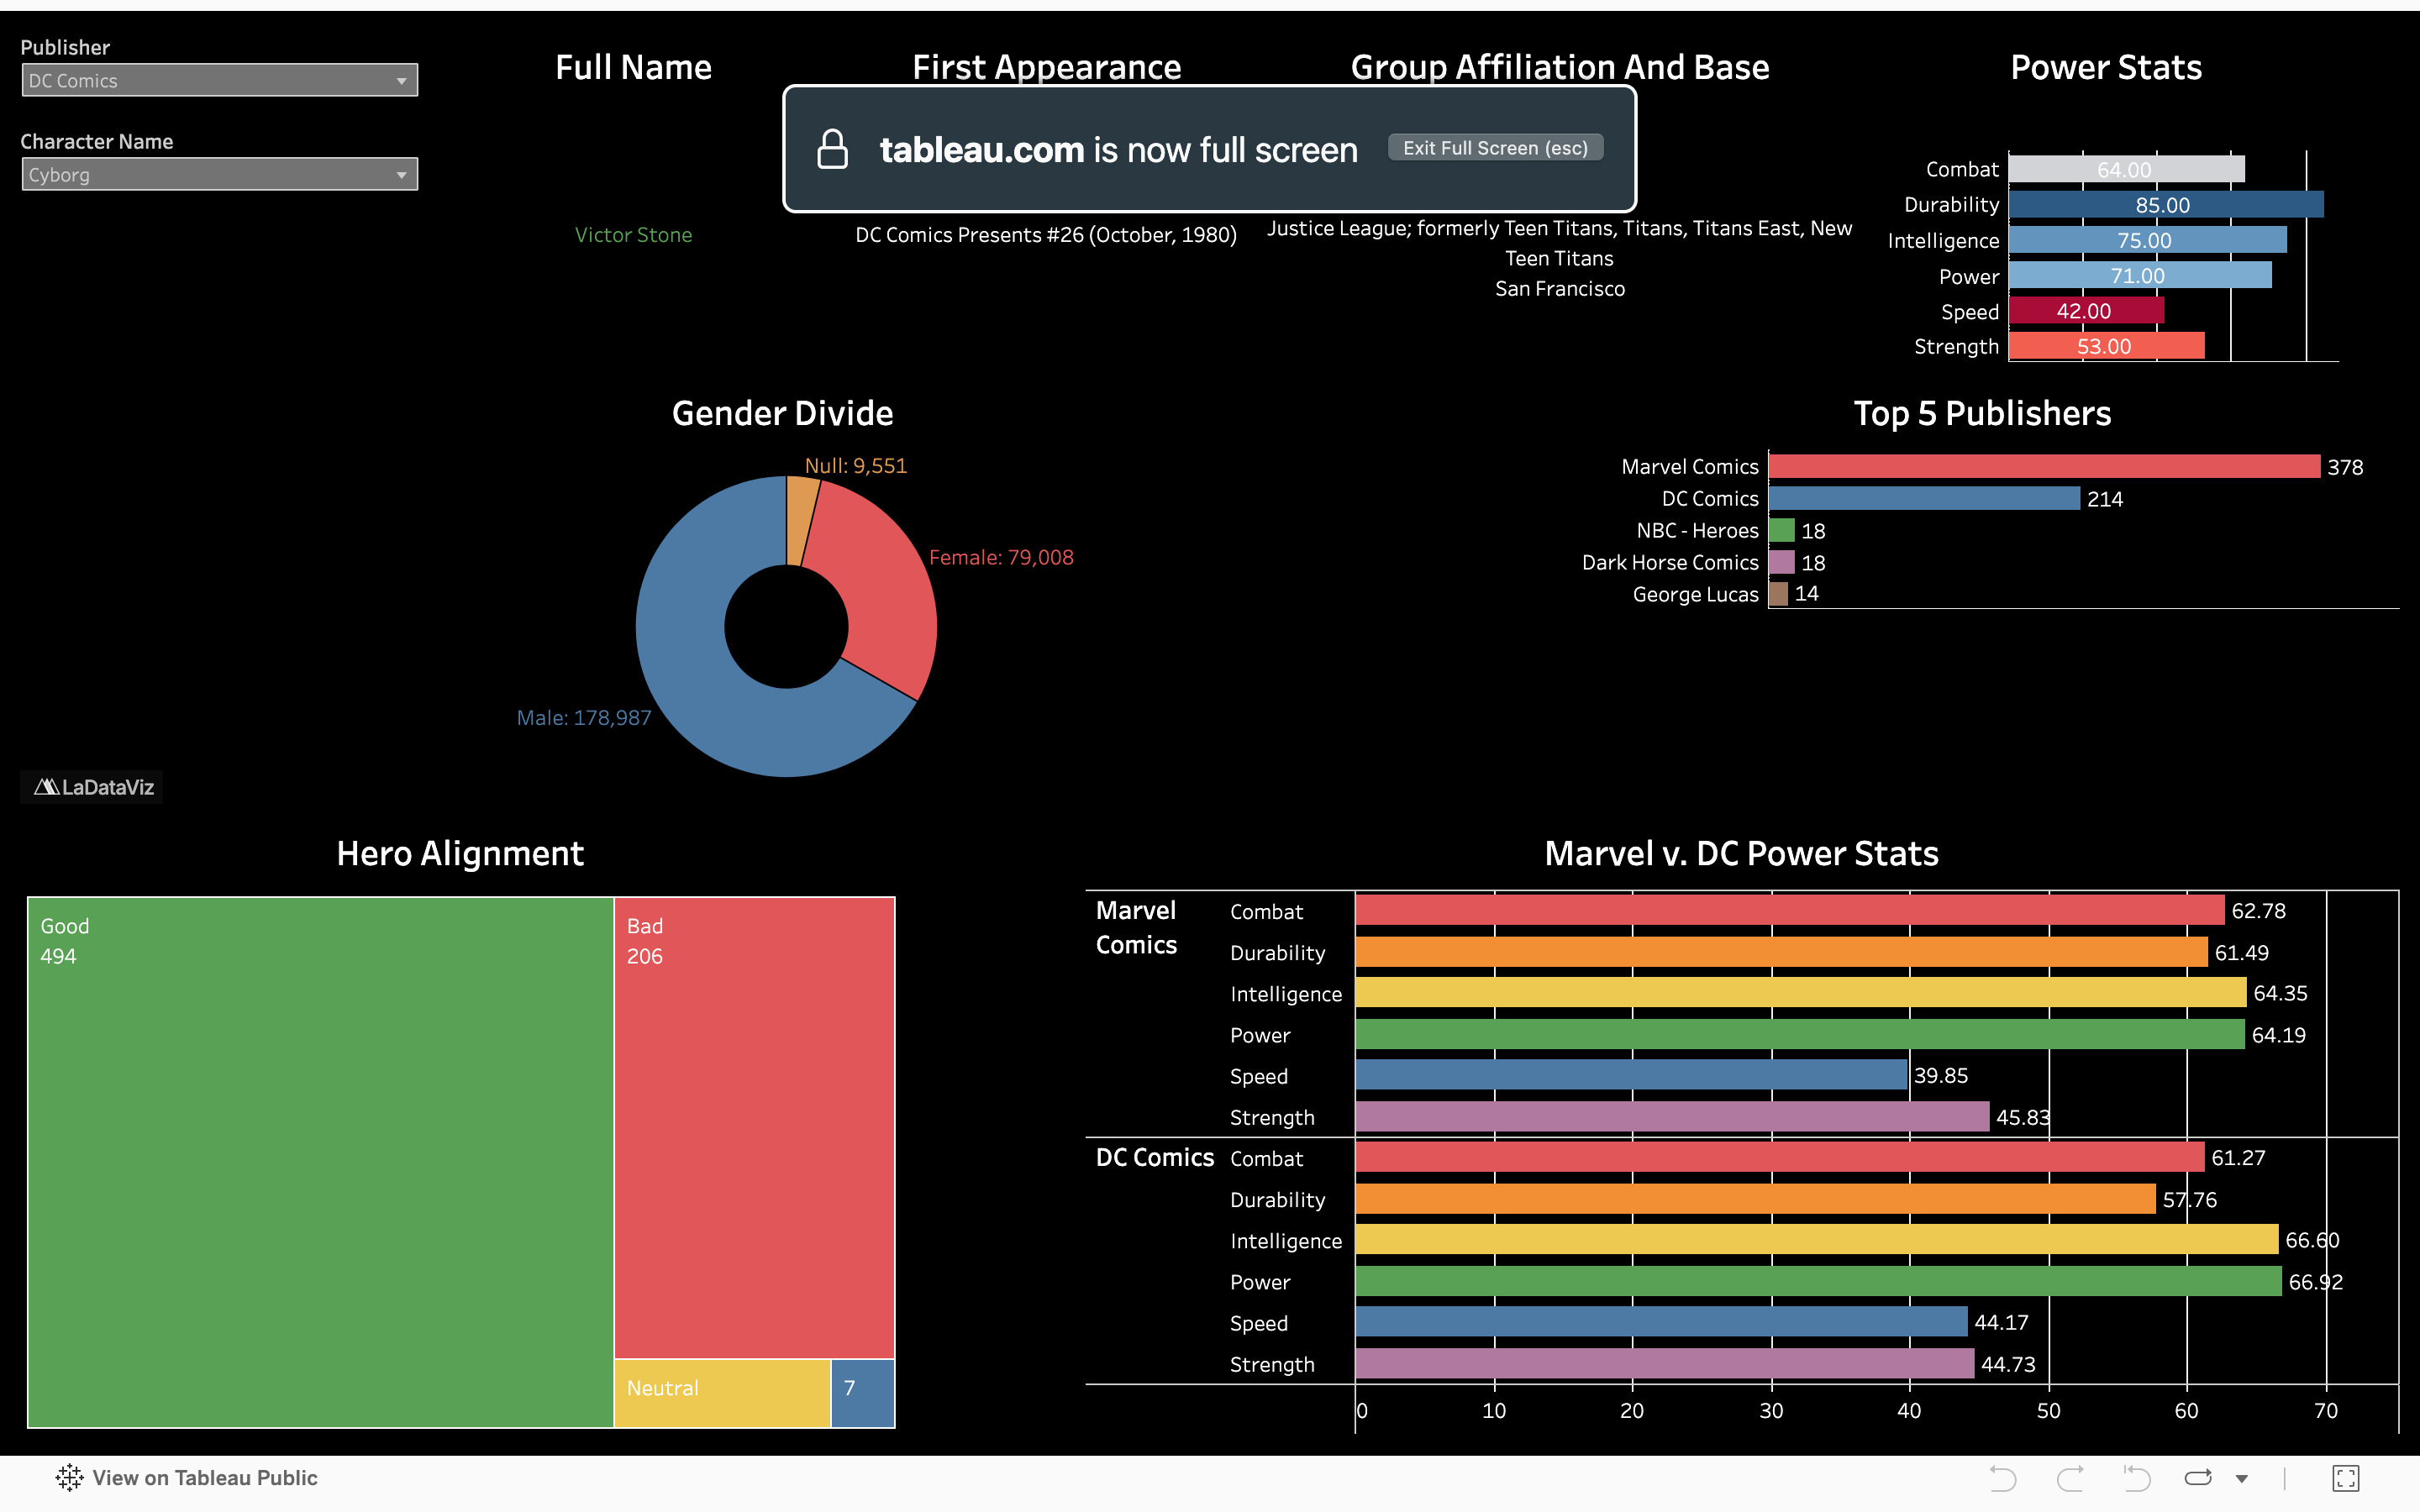

What the dashboard file says about the page in this screenshot:
{"tool":"tableau","page":{"name":"Dashboard 2","canvas":[1000,1000],"units":"permille","ordinal":0},"visuals":[{"type":"filter","title":"Char Power Stats","param":"[federated.1kn8je60tmyygf1c4n9020x3f44j].[none:Publisher:nk]","box":[6.2,10.6,170.7,65.1]},{"type":"worksheet","title":"Char's Full name","mark":"Automatic","box":[176.9,10.6,170.7,239.5]},{"type":"worksheet","title":"Char first Appearance","mark":"Automatic","box":[347.6,10.6,170.7,239.5]},{"type":"worksheet","title":"Char's Group Affiliation","mark":"Automatic","box":[518.3,10.6,253.2,239.5]},{"type":"worksheet","title":"Char Power Stats","mark":"Automatic","box":[771.5,10.6,197.7,239.5]},{"type":"blank","box":[969.2,10.6,24.6,239.5]},{"type":"filter","title":"Char Power Stats","param":"[federated.1kn8je60tmyygf1c4n9020x3f44j].[none:Name:nk]","box":[6.2,75.7,170.7,174.4]},{"type":"worksheet","title":"Sheet 13","box":[6.2,250.1,638.4,303.2]},{"type":"worksheet","title":"Top 5 publishers","mark":"Automatic","rows":["Publisher"],"cols":["ID"],"box":[644.6,250.1,349.3,303.2]},{"type":"worksheet","title":"Hero Alignment","mark":"Automatic","box":[6.2,553.3,440,436.1]},{"type":"worksheet","title":"M. v. DC Power Stats","mark":"Automatic","rows":["Publisher"],"box":[446.2,553.3,547.7,436.1]}]}

Visuals, with their boxes on the dashboard's canvas, which has no fixed pixel size, in thousandths of its width and height (x1, y1, x2, y2). These are canvas units, not pixel positions in the 2420x1512 screenshot, which may show the page scaled, cropped or inside an application window:
"Char Power Stats" filter: {"x1": 6, "y1": 11, "x2": 177, "y2": 76}
"Char's Full name" worksheet: {"x1": 177, "y1": 11, "x2": 348, "y2": 250}
"Char first Appearance" worksheet: {"x1": 348, "y1": 11, "x2": 518, "y2": 250}
"Char's Group Affiliation" worksheet: {"x1": 518, "y1": 11, "x2": 772, "y2": 250}
"Char Power Stats" worksheet: {"x1": 772, "y1": 11, "x2": 969, "y2": 250}
blank: {"x1": 969, "y1": 11, "x2": 994, "y2": 250}
"Char Power Stats" filter: {"x1": 6, "y1": 76, "x2": 177, "y2": 250}
"Sheet 13" worksheet: {"x1": 6, "y1": 250, "x2": 645, "y2": 553}
"Top 5 publishers" worksheet: {"x1": 645, "y1": 250, "x2": 994, "y2": 553}
"Hero Alignment" worksheet: {"x1": 6, "y1": 553, "x2": 446, "y2": 989}
"M. v. DC Power Stats" worksheet: {"x1": 446, "y1": 553, "x2": 994, "y2": 989}
